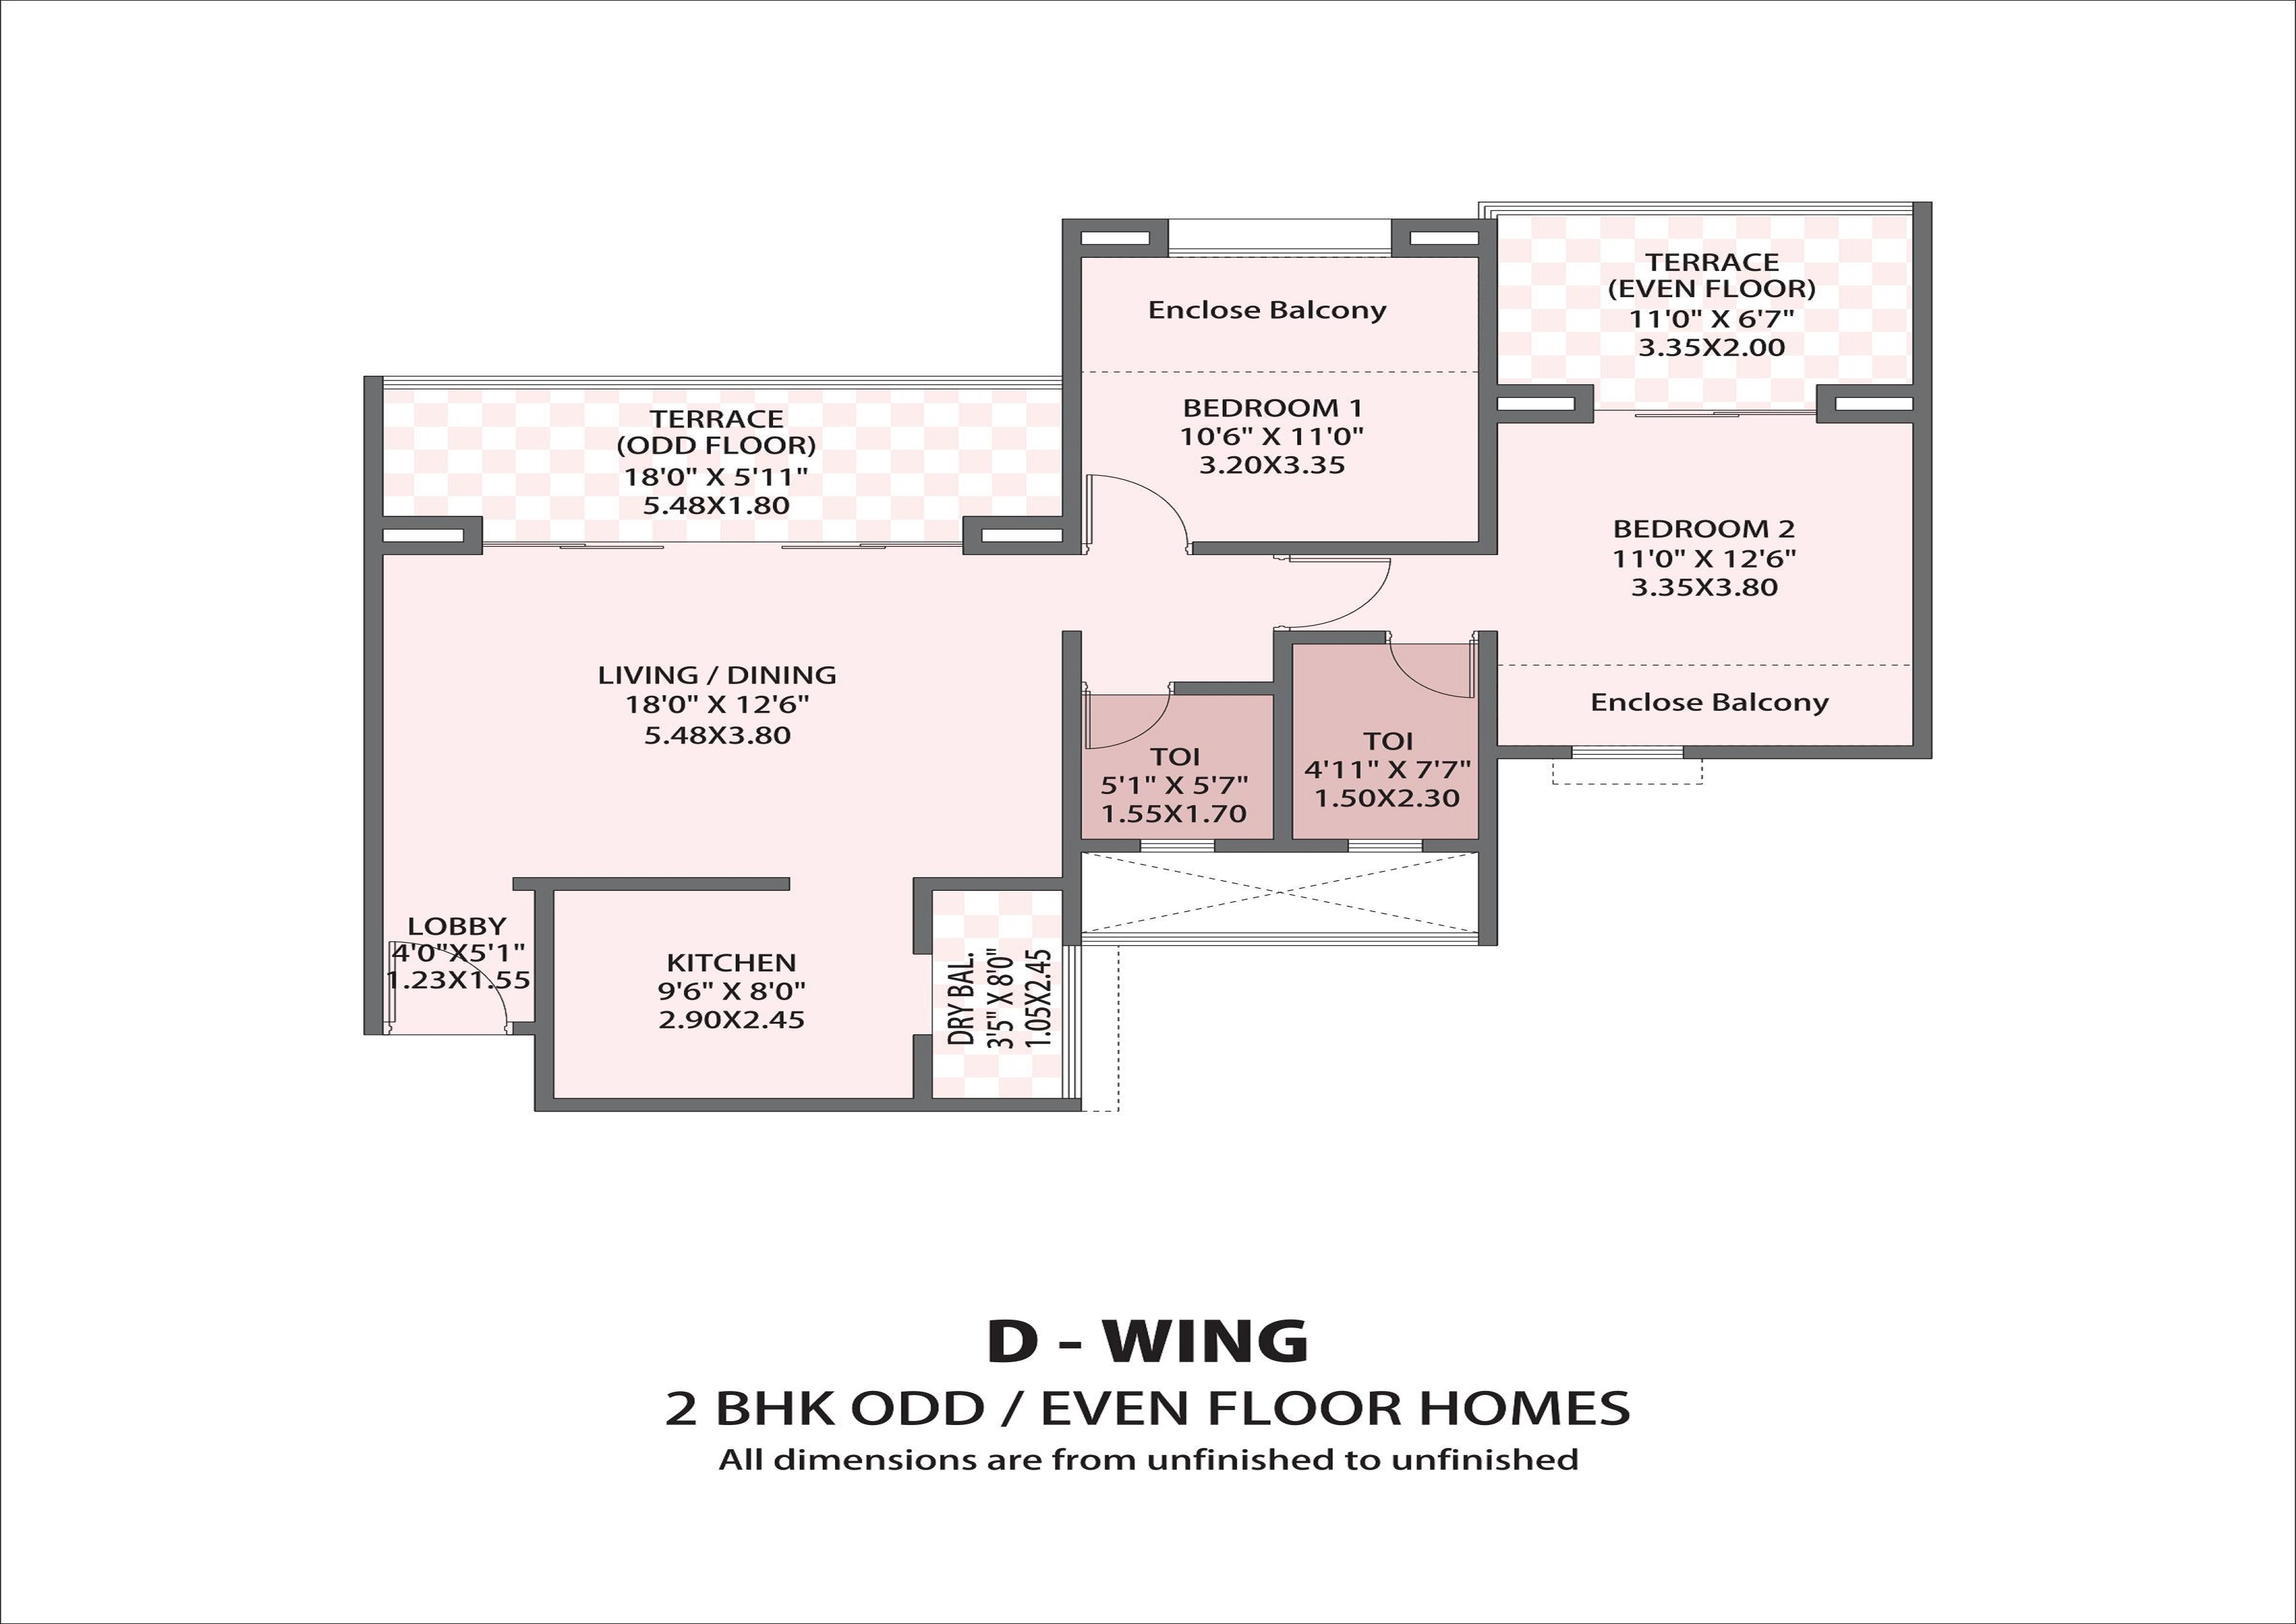window: (1165, 244, 1393, 262), (1567, 743, 1685, 761), (1138, 837, 1217, 854), (1346, 837, 1425, 854)
